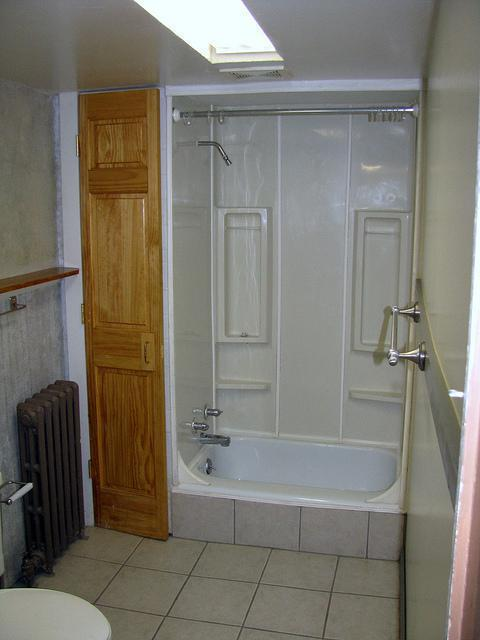Ducha: (172, 115, 241, 486)
Sanitario: (0, 576, 112, 639)
